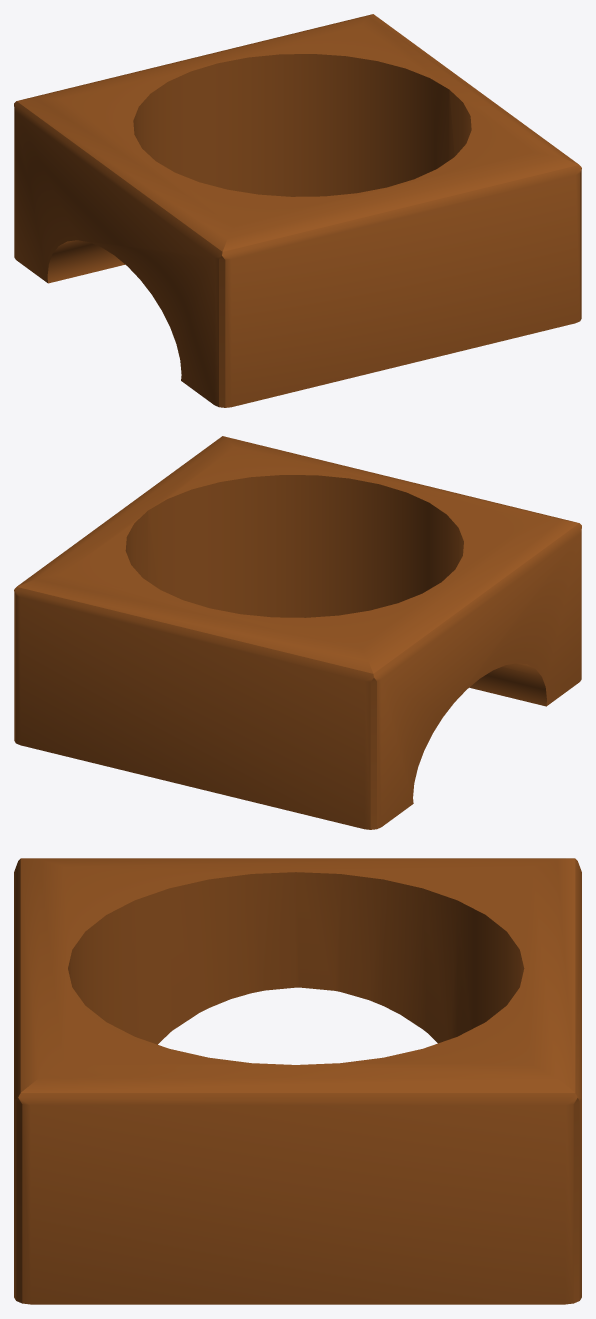
Rendered from Porta pratos.fbx.
The picture shows the model from 3 angles, top to bottom: view 1: azimuth 30°, elevation 25°; view 2: azimuth 150°, elevation 25°; view 3: azimuth 270°, elevation 25°; orthographic projection. The views are drawn at different scales.
Parts seen in each view (by area): view 1: Cube.051; view 2: Cube.051; view 3: Cube.051.
Boxes of the visible parts, x1,y1,x2,y2 form: Cube.051: (14, 14, 581, 407); Cube.051: (14, 436, 581, 829); Cube.051: (14, 858, 581, 1304).
Bounding box in the file's own units: 72.61 × 30.81 × 72.61.
